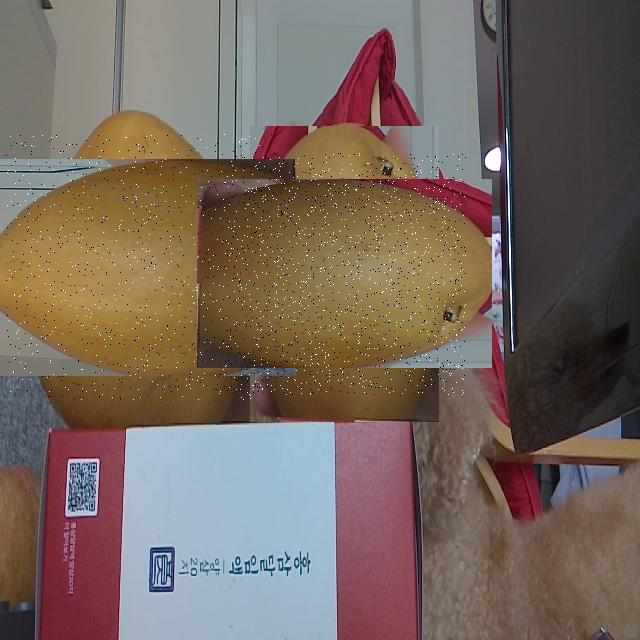pear: (6, 134, 272, 400), (223, 153, 466, 395)
